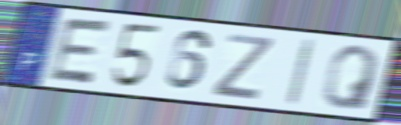5: (109, 20, 164, 89)
6: (165, 28, 214, 95)
E: (45, 15, 115, 87)
I: (284, 37, 317, 108)
Q: (320, 43, 383, 112)
Z: (209, 32, 277, 103)
